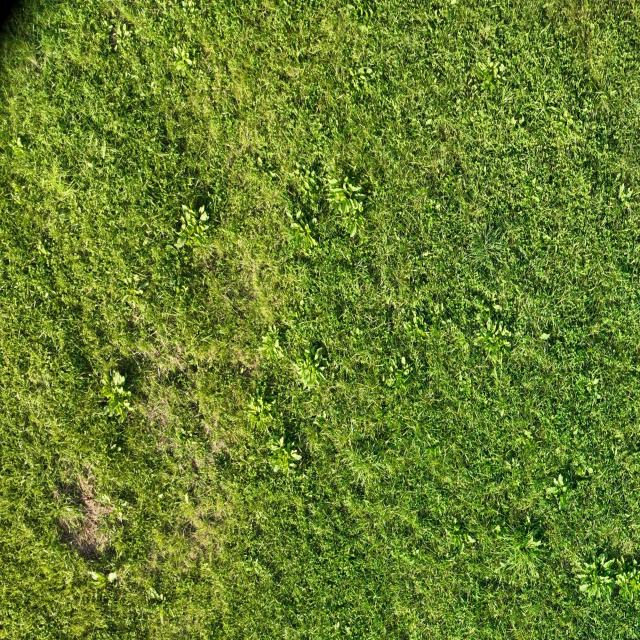rumex: (563, 357, 620, 440), (492, 520, 546, 584), (337, 305, 384, 368), (284, 161, 324, 217), (574, 552, 618, 602), (467, 49, 507, 101), (474, 314, 514, 365), (378, 348, 417, 397), (395, 300, 433, 350), (117, 266, 152, 312), (100, 413, 130, 464), (441, 517, 474, 559), (286, 213, 318, 255), (258, 323, 288, 365), (425, 2, 455, 43), (345, 2, 380, 36), (613, 558, 640, 599), (198, 190, 224, 224), (33, 236, 56, 272), (167, 275, 191, 306), (349, 63, 375, 91), (171, 43, 194, 74), (106, 496, 131, 524), (89, 566, 119, 588), (294, 366, 320, 391), (180, 1, 202, 22), (171, 424, 190, 448), (8, 134, 26, 158), (301, 172, 320, 194), (456, 371, 473, 395), (324, 175, 344, 195), (110, 372, 126, 395), (309, 344, 325, 362), (146, 586, 162, 602), (525, 533, 540, 550), (266, 323, 280, 339), (600, 556, 616, 570), (618, 183, 630, 201), (552, 474, 566, 489), (476, 61, 490, 75), (346, 181, 360, 195), (106, 402, 119, 417), (558, 494, 568, 512), (410, 310, 420, 327), (489, 59, 501, 73), (530, 527, 542, 541), (120, 398, 132, 412), (354, 215, 365, 230), (192, 235, 204, 248), (360, 8, 370, 23), (100, 140, 108, 158), (100, 494, 112, 506), (290, 449, 302, 461), (189, 361, 200, 374), (578, 582, 591, 593), (175, 236, 186, 249), (148, 80, 158, 94), (546, 486, 560, 496), (316, 368, 326, 382), (134, 24, 144, 37), (423, 313, 433, 326), (353, 191, 366, 201), (138, 280, 150, 290), (285, 210, 294, 223), (492, 302, 502, 313), (276, 435, 286, 446), (356, 66, 368, 75), (102, 405, 111, 417), (486, 317, 493, 332), (122, 30, 132, 40), (540, 332, 550, 342), (90, 570, 100, 580), (302, 179, 311, 190), (296, 48, 304, 60), (172, 44, 180, 56), (424, 117, 434, 126), (270, 170, 280, 179), (494, 524, 502, 535), (475, 313, 483, 324), (498, 63, 506, 74), (333, 621, 341, 632), (518, 116, 526, 126), (296, 210, 304, 220), (400, 356, 408, 366), (420, 250, 430, 258), (198, 204, 206, 214), (272, 463, 280, 473), (200, 212, 208, 222), (532, 194, 540, 203), (183, 492, 189, 504), (354, 327, 362, 336), (586, 466, 594, 475), (439, 302, 445, 314), (510, 116, 517, 126), (256, 156, 263, 166), (70, 222, 80, 229), (321, 410, 328, 420), (526, 514, 532, 525), (364, 68, 372, 76), (455, 98, 461, 108), (286, 440, 292, 450), (562, 109, 568, 118), (43, 291, 49, 299), (182, 204, 188, 212), (87, 162, 93, 169), (246, 130, 250, 138)
